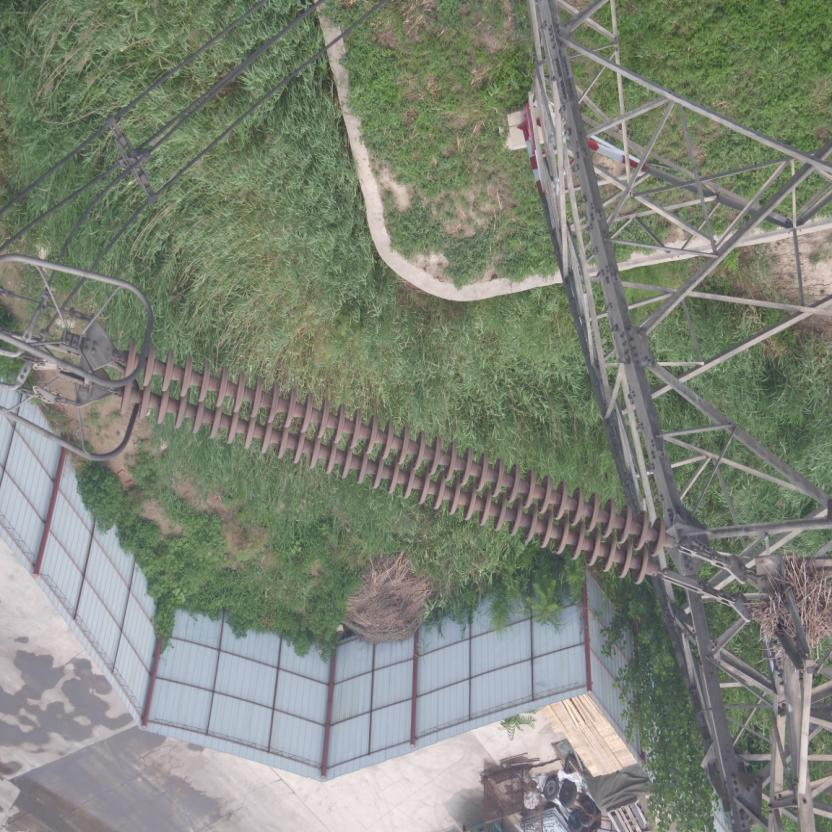insulator: (97, 333, 705, 590)
